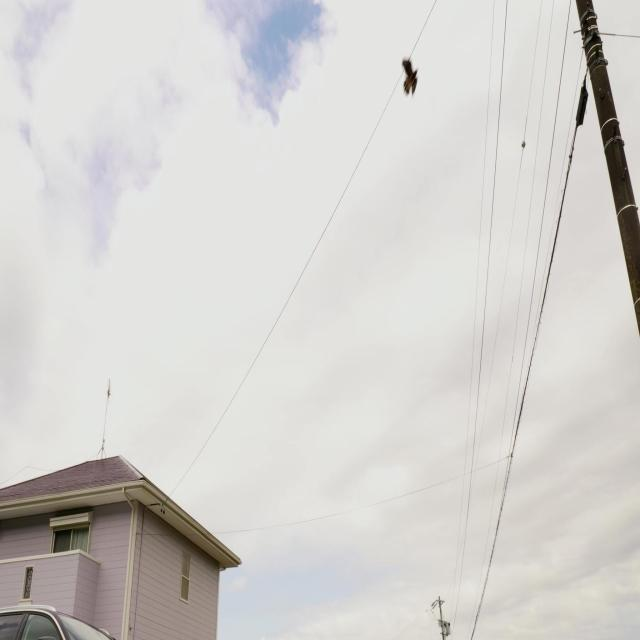Birds: (394, 42, 434, 104)
